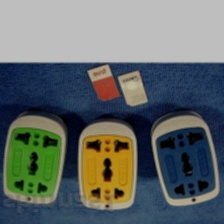three_eye_plug: (147, 107, 223, 211), (1, 107, 70, 206), (73, 114, 140, 215)
